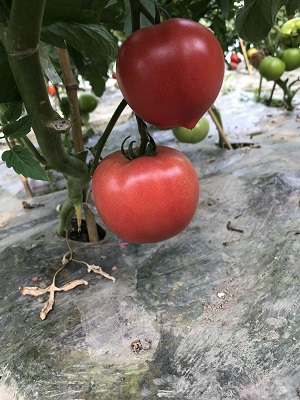mature-tomato: (117, 19, 223, 128), (93, 145, 200, 240)
